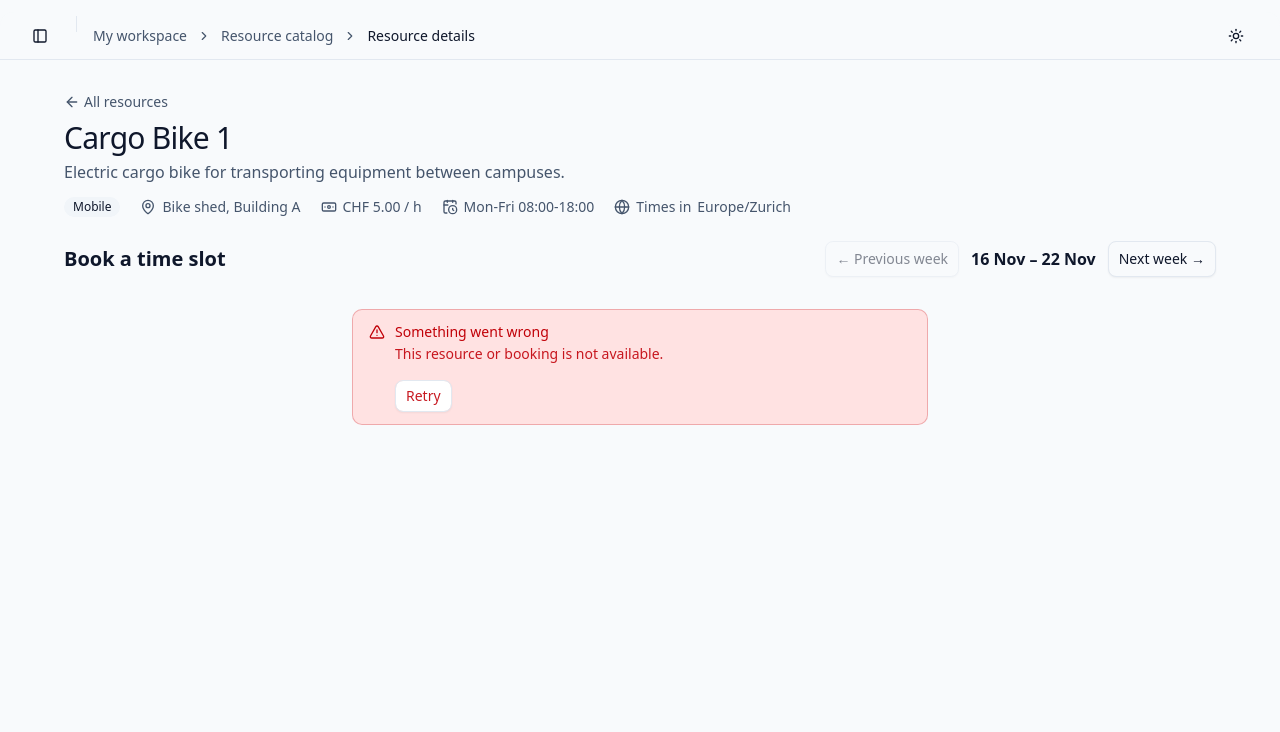
ResourceDetailsPage › shows an availability error with retry while keeping the details
Expected: the message shows "This resource or booking is not available.", [395,344,663,363]
Expected: the heading "Cargo Bike 1" is shown, [64,117,232,158]
Step 1. Click the button "Retry" → (423,396), box [395,380,452,412]
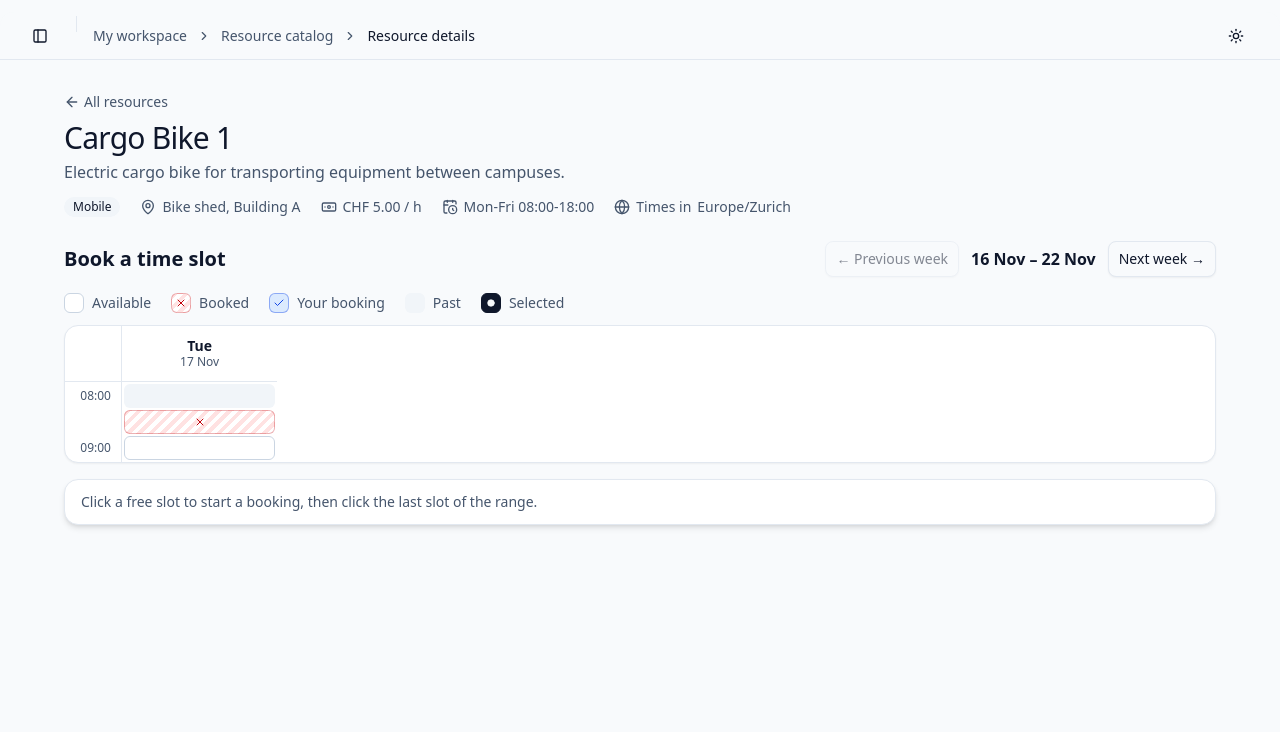
Expected: the message "Something went wrong This resource or booking is not available. Retry" is gone
